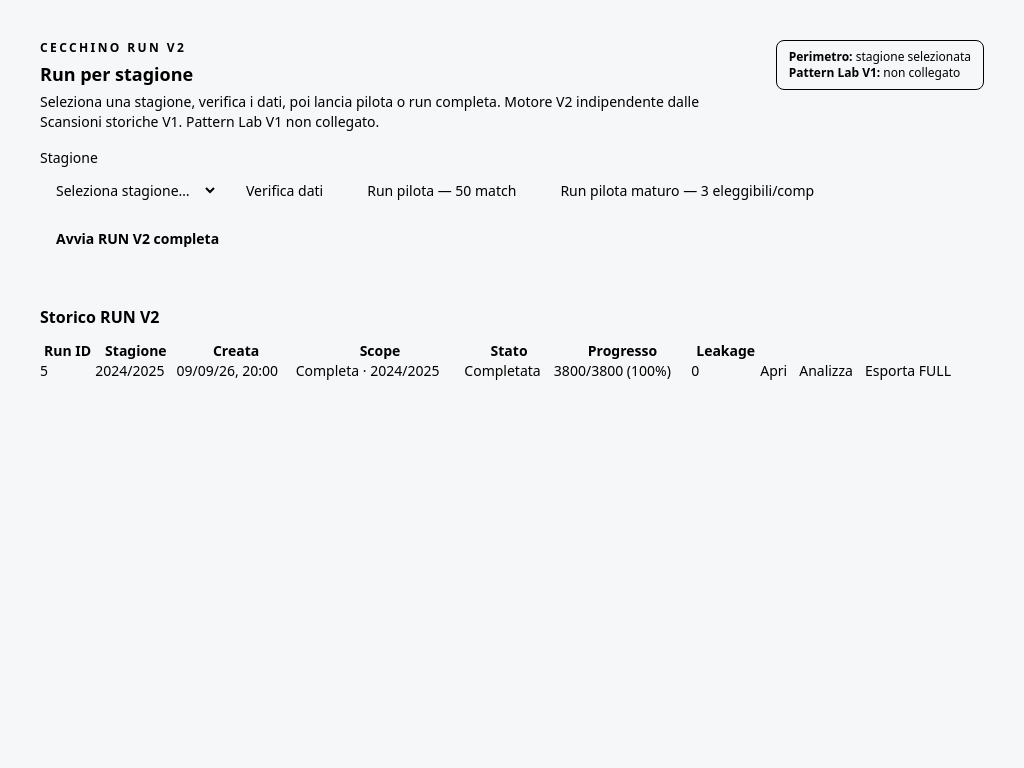
Test: CecchinoRunV2Section › dopo il login l'avvio viene ripetuto senza rifare il percorso
The image size is (1024, 768).
Expected: the row with test id "run-v2-row-5" is shown, x1=40 y1=361 x2=984 y2=381
Select "2024/2025" in the dropdown with test id "run-v2-season-select" at point(129, 190), box x1=40 y1=172 x2=218 y2=209
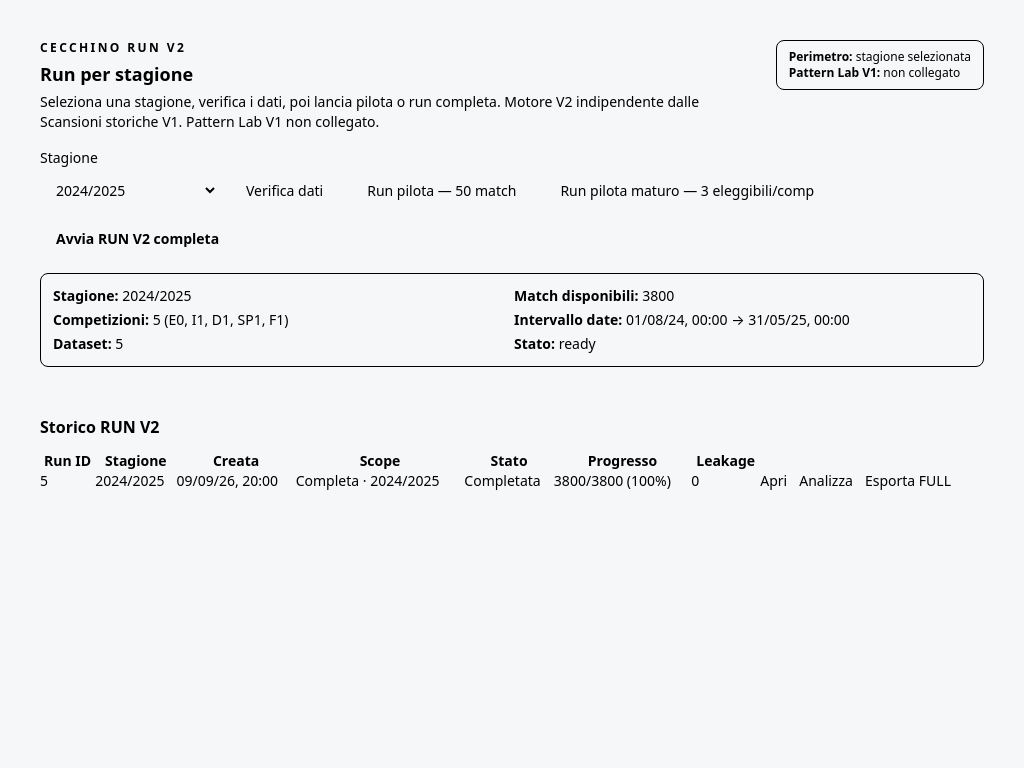
Expected: the element with test id "run-v2-preflight-panel" is shown, x1=40 y1=273 x2=984 y2=367
Click the button with test id "run-v2-start-full".
click(138, 239)  # box x1=40 y1=221 x2=235 y2=257
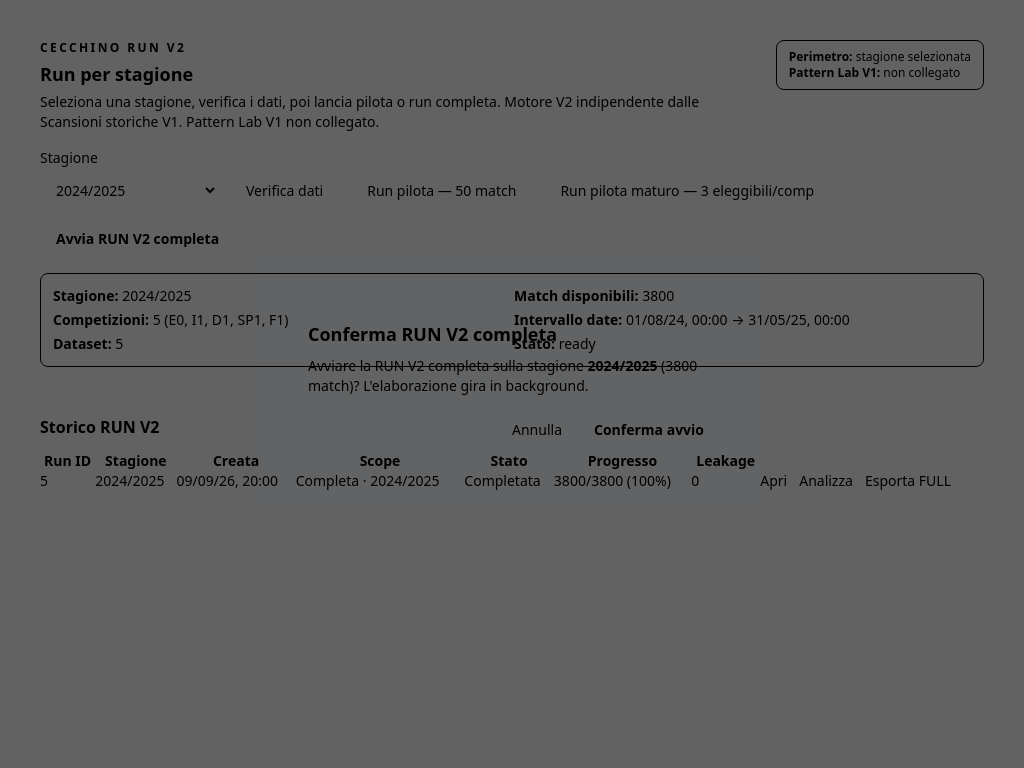
Click the button with test id "run-v2-confirm-start".
click(649, 430)  # box x1=582 y1=412 x2=716 y2=448
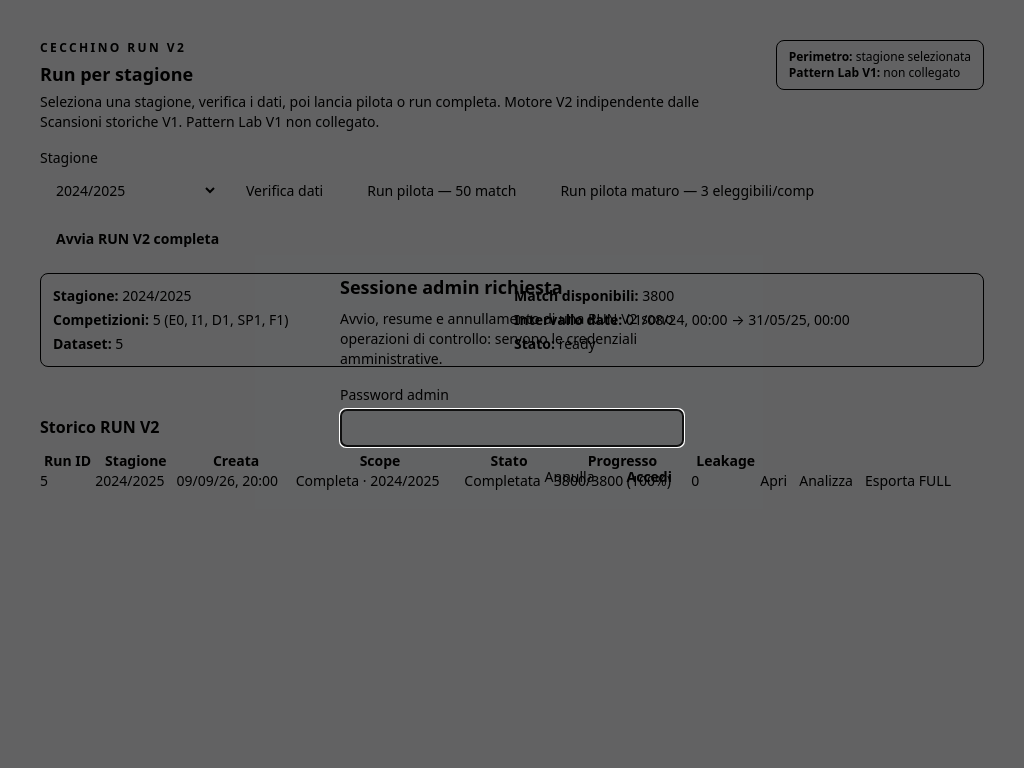
Expected: the dialog with test id "run-v2-login-dialog" is shown
Type "password-admin" into the password field with test id "run-v2-login-password".
click(512, 428); type("password-admin")  # box x1=340 y1=409 x2=684 y2=447
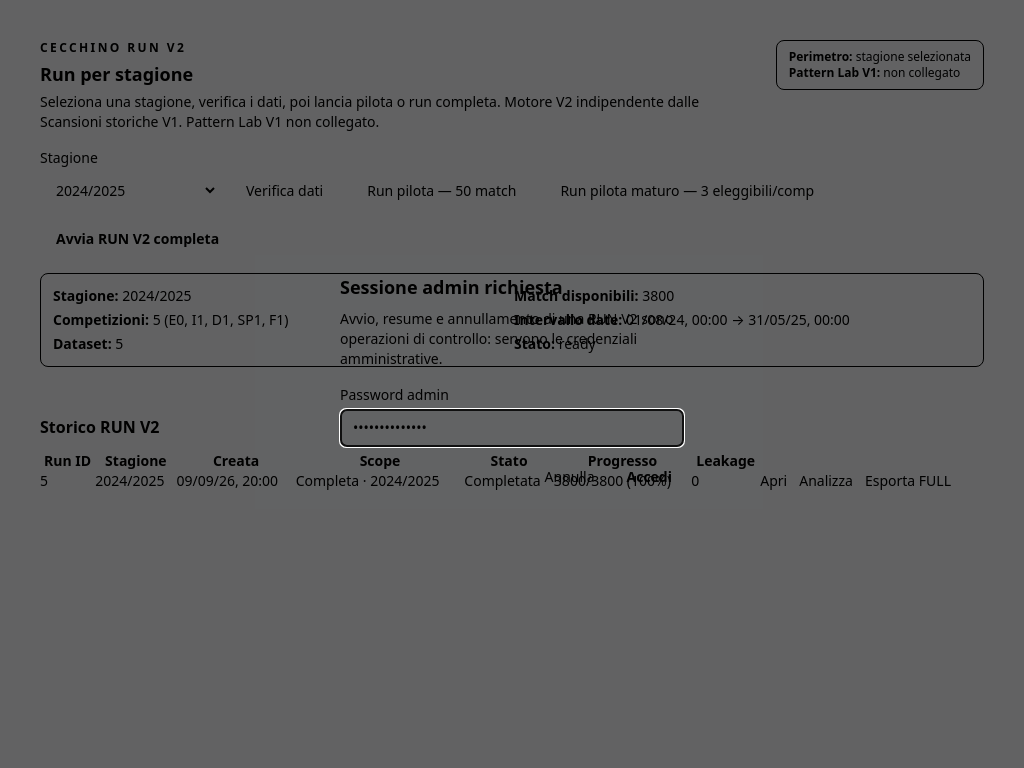
Click the button with test id "run-v2-login-submit".
click(649, 477)  # box x1=614 y1=459 x2=684 y2=495
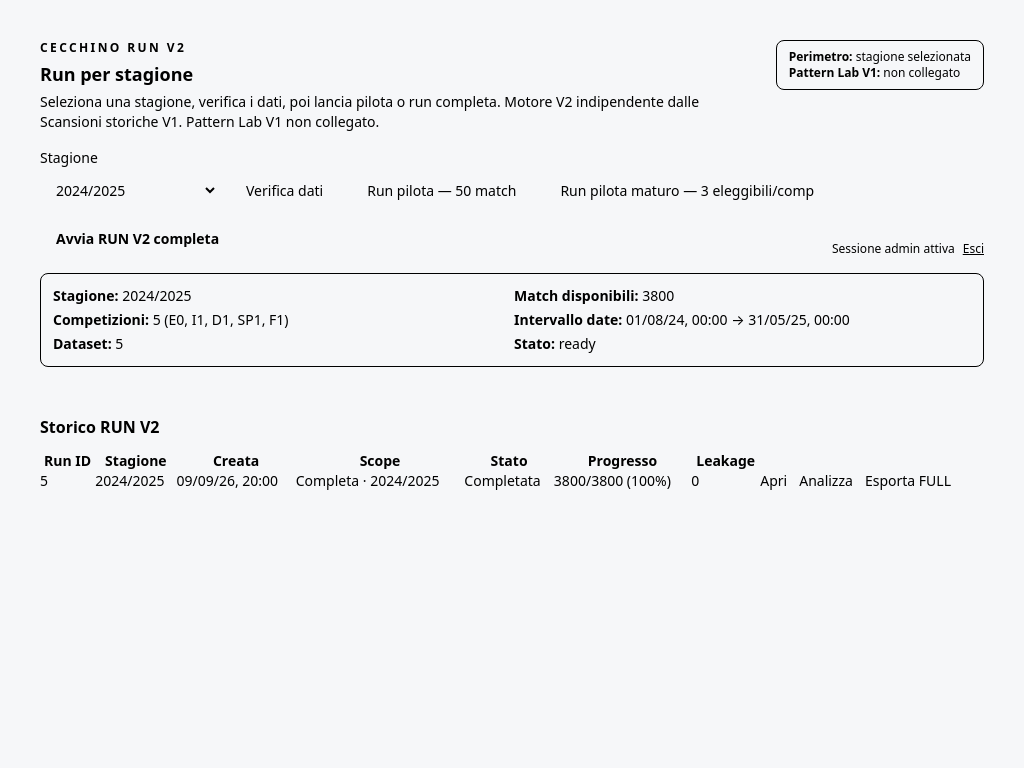
Expected: the dialog with test id "run-v2-login-dialog" is gone
